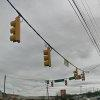Traffic light: (6, 12, 29, 56)
